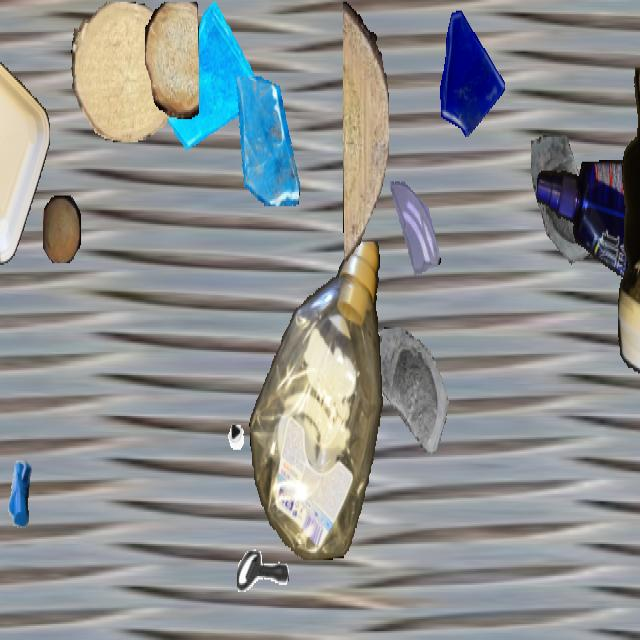glass: (168, 2, 258, 162), (529, 135, 615, 288), (377, 323, 461, 473), (431, 2, 507, 137), (230, 76, 302, 205), (385, 180, 443, 282)
metal: (191, 354, 249, 457), (0, 438, 48, 540), (237, 528, 289, 620)
plastic: (249, 242, 385, 558), (537, 160, 640, 306), (0, 18, 50, 270), (618, 67, 640, 377)
wood: (71, 2, 177, 140), (343, 2, 389, 261), (145, 2, 199, 119), (43, 196, 81, 263)
